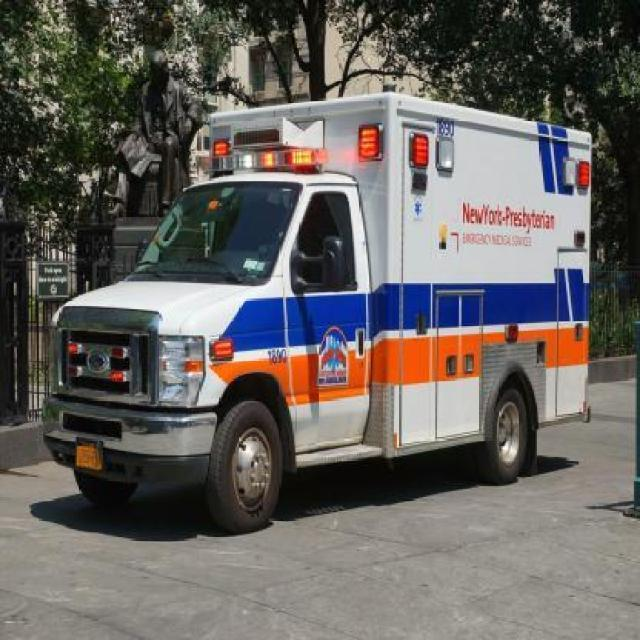emergency: (40, 83, 594, 533)
